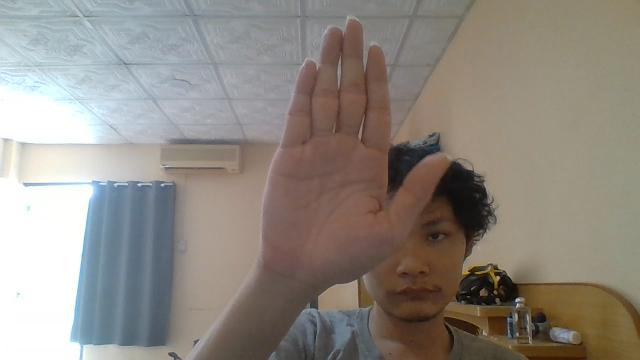Stop: (259, 14, 451, 294)
